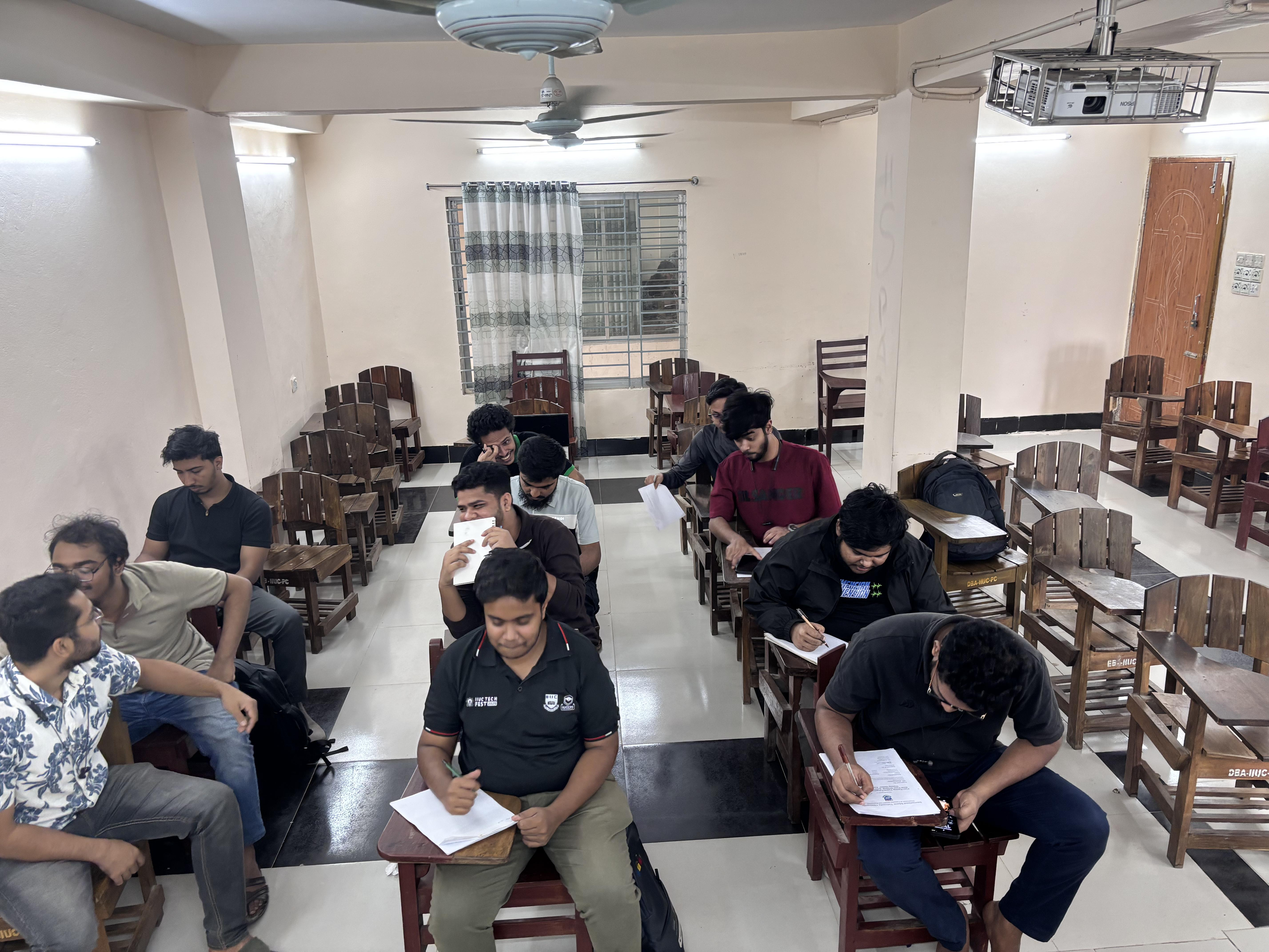exchanging_sheets: (639, 371, 733, 531)
no_cheating: (431, 551, 593, 864), (773, 490, 935, 678), (137, 421, 271, 610), (501, 430, 585, 543)
side_talking: (0, 563, 198, 889), (433, 467, 543, 592), (46, 513, 167, 609), (465, 408, 527, 470)
using_phone: (821, 621, 1074, 901), (713, 393, 804, 589)
